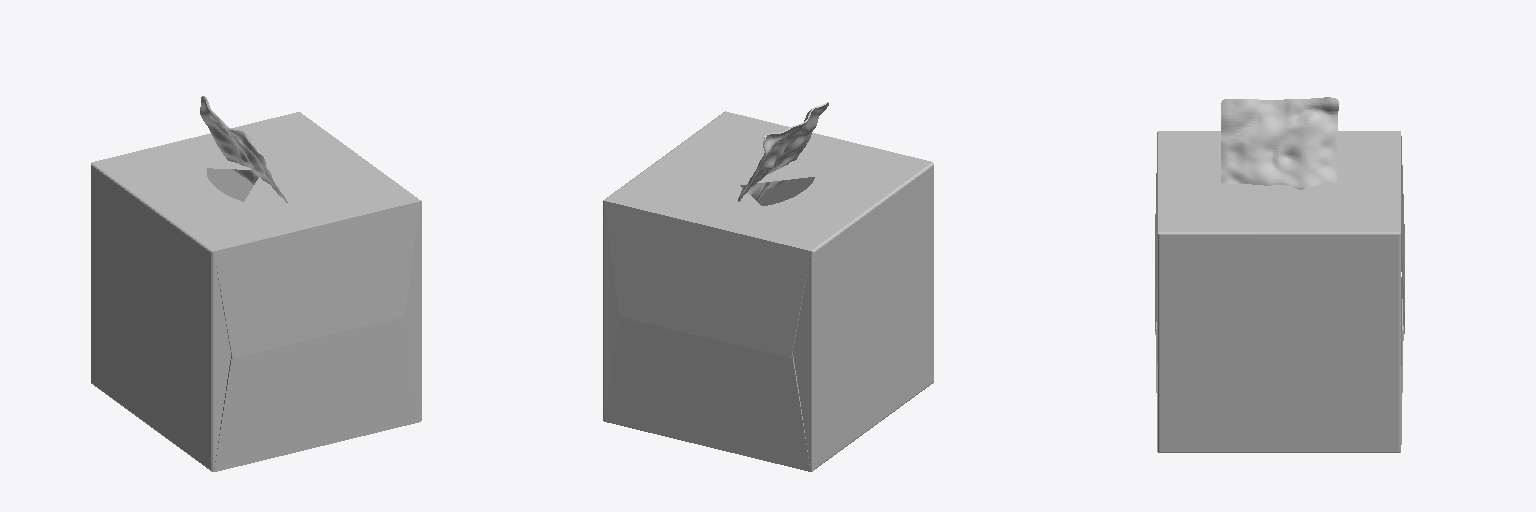
File: Tissues.obj
3 renders of one model, left to right at view 1: azimuth 30°, elevation 25°; view 2: azimuth 150°, elevation 25°; view 3: azimuth 270°, elevation 25°, orthographic.
Visible parts, largest first — view 1: Plane, Plane.001_Plane.002; view 2: Plane, Plane.001_Plane.002; view 3: Plane, Plane.001_Plane.002.
Part boxes in pixels (x1,y1,x2,y2): Plane: (91,112,421,471); Plane.001_Plane.002: (200,96,287,202); Plane: (603,111,933,471); Plane.001_Plane.002: (738,102,828,202); Plane: (1155,131,1404,452); Plane.001_Plane.002: (1221,97,1338,189).
Bounding box in the file's own units: 2 × 2.65 × 2.06.